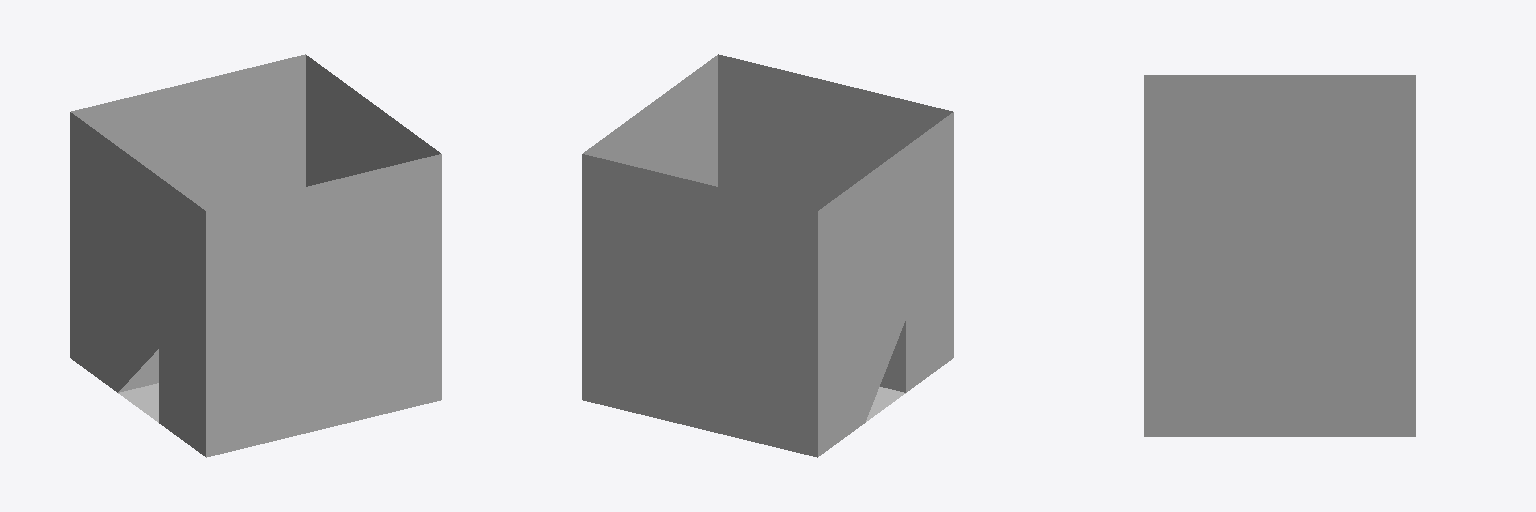
File: House_v1_1.obj
3 renders of one model, left to right at view 1: azimuth 30°, elevation 25°; view 2: azimuth 150°, elevation 25°; view 3: azimuth 270°, elevation 25°, orthographic.
Visible parts, largest first — view 1: Cube, Cube.001_Cube.003; view 2: Cube, Cube.001_Cube.003; view 3: Cube, Cube.001_Cube.003.
Boxes of the visible parts, <box> form: Cube: <box>70,54,441,457</box>; Cube.001_Cube.003: <box>118,349,158,422</box>; Cube: <box>582,54,953,457</box>; Cube.001_Cube.003: <box>866,321,905,421</box>; Cube: <box>1144,75,1415,436</box>; Cube.001_Cube.003: <box>1239,363,1320,436</box>.
Bounding box in the file's own units: 2 × 2 × 2.